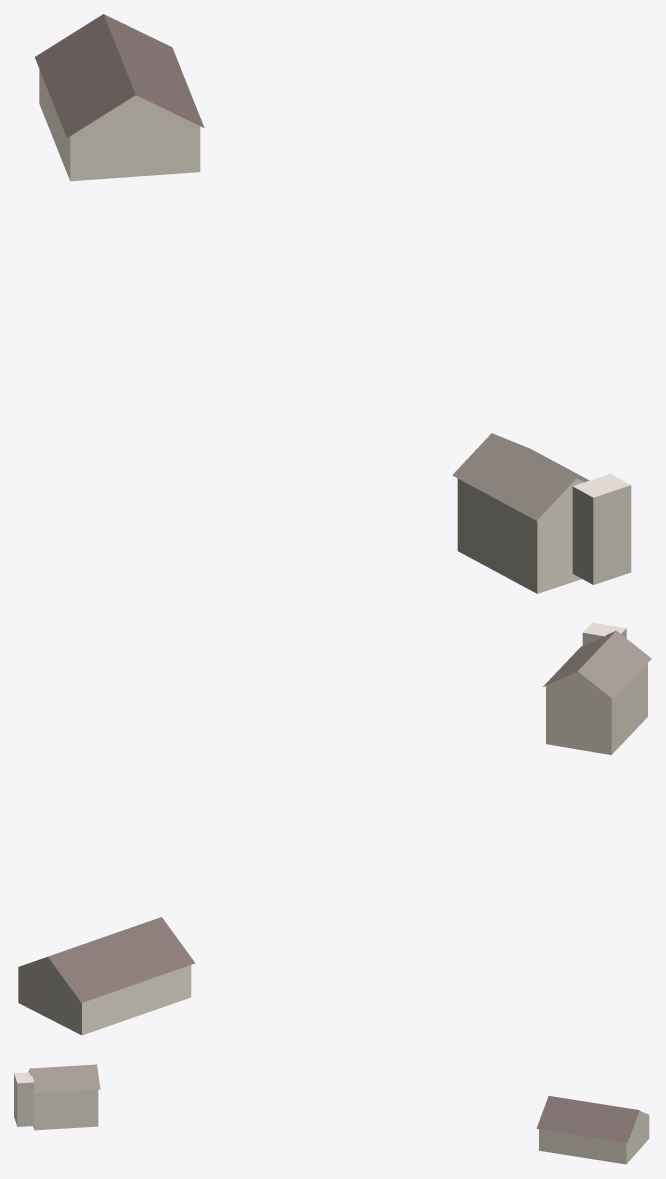
3 views of the same model, one above another, from view 1: azimuth 30°, elevation 25°; view 2: azimuth 150°, elevation 25°; view 3: azimuth 270°, elevation 25° (orthographic). The views are drawn at different scales.
Visible parts, largest first — view 1: tuile; view 2: tuile; view 3: tuile.
Boxes of the visible parts, left/top/right/bottom form: tuile: left=35, top=14, right=631, bottom=593; tuile: left=18, top=622, right=651, bottom=1035; tuile: left=14, top=1064, right=649, bottom=1164.
Size of the model in its own units: 25.88 by 10.17 by 112.
